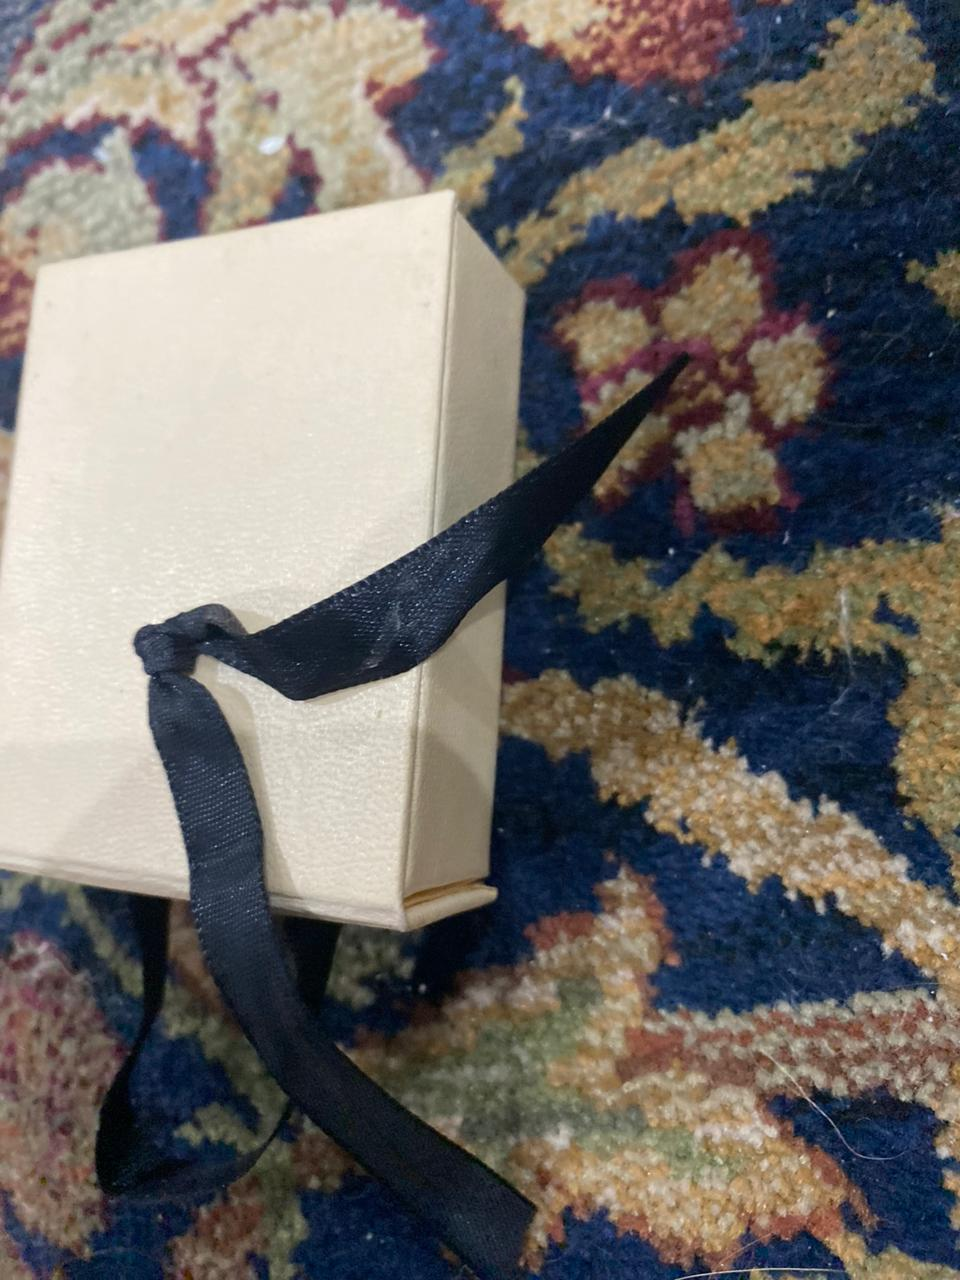Yellow Box: (2, 186, 527, 942)
